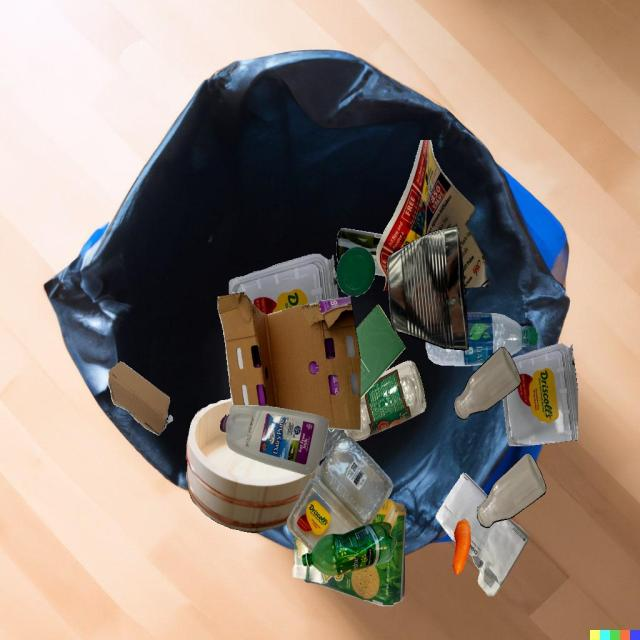biowaste: (453, 519, 470, 575)
cardboard: (218, 292, 361, 431), (293, 498, 406, 606), (108, 361, 173, 436)
combustible waste: (186, 398, 319, 533)
glass: (344, 361, 426, 441), (477, 454, 546, 528), (454, 347, 521, 420), (336, 228, 385, 276)
metal: (386, 226, 468, 350)
paper: (376, 140, 489, 291), (436, 473, 530, 596), (356, 305, 406, 399)
plastic: (287, 433, 393, 552), (503, 344, 578, 446), (220, 405, 329, 475), (229, 254, 339, 315), (425, 312, 538, 366), (302, 522, 397, 576), (336, 246, 375, 296), (320, 429, 344, 461)
